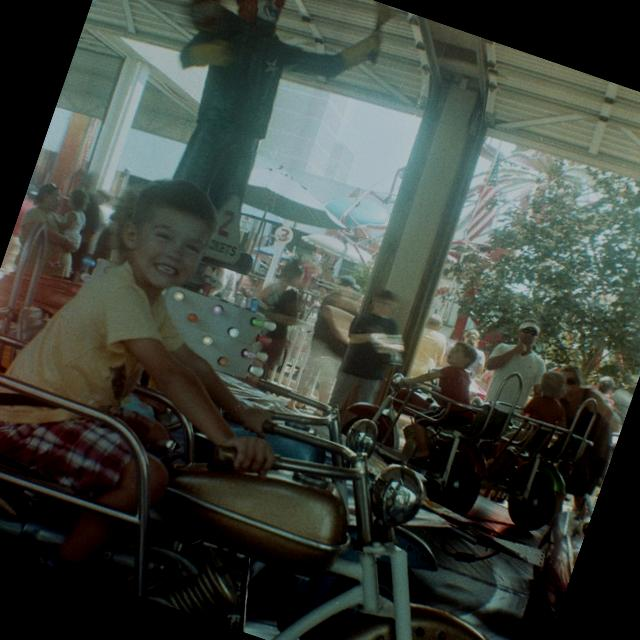Vehicle: (133, 363, 565, 640), (328, 322, 530, 522), (492, 450, 578, 542)
